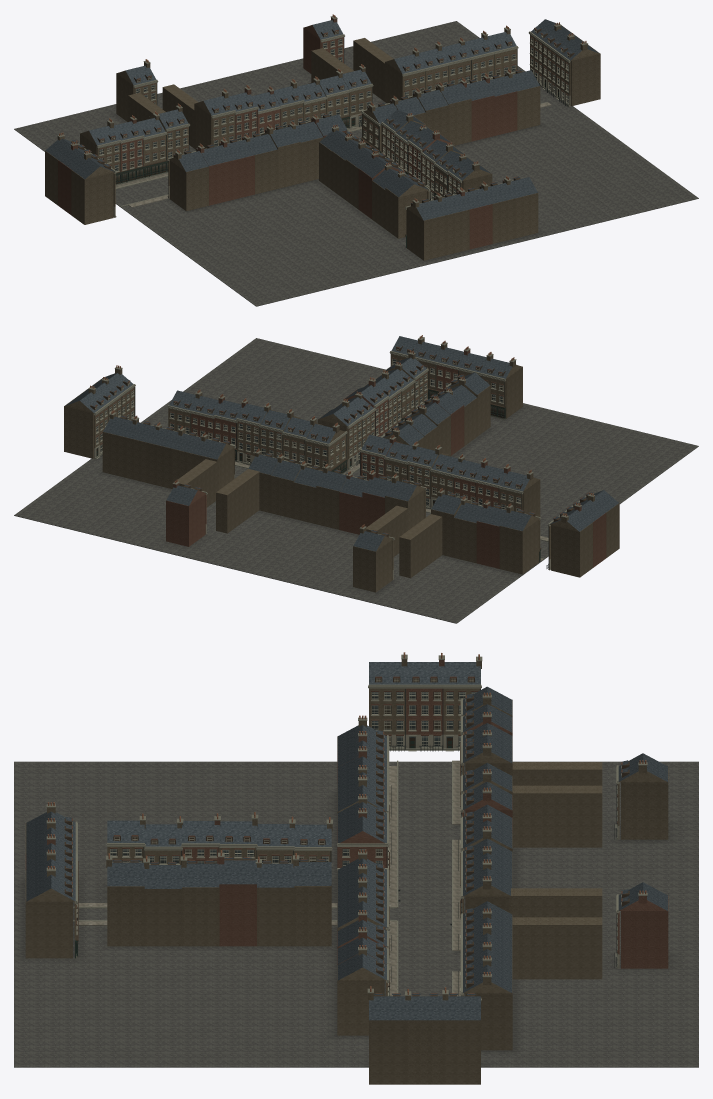
File: broad-street.glb
3 views of the same model, one above another, from view 1: azimuth 30°, elevation 25°; view 2: azimuth 150°, elevation 25°; view 3: azimuth 270°, elevation 25° (orthographic). The views are drawn at different scales.
Parts seen in each view (by area): view 1: Granite setts, London stock brick, Welsh slate, Weathered red brick, Window frame, Limestone, Window glass, Old timber, Ironwork, Warm glass, Terracotta, Painted shopfront; view 2: Granite setts, London stock brick, Welsh slate, Weathered red brick, Window frame, Limestone, Window glass, Old timber, Ironwork, Warm glass, Terracotta; view 3: Granite setts, London stock brick, Welsh slate, Weathered red brick, Limestone, Old timber, Window frame, Yorkstone paving, Window glass, Terracotta, Ironwork.
Part boxes in pixels (left/top/right/bottom): Granite setts: left=14, top=21, right=698, bottom=306; London stock brick: left=45, top=26, right=600, bottom=260; Welsh slate: left=45, top=19, right=599, bottom=220; Weathered red brick: left=58, top=17, right=569, bottom=249; Window frame: left=99, top=29, right=569, bottom=199; Limestone: left=57, top=16, right=587, bottom=247; Window glass: left=99, top=39, right=568, bottom=199; Old timber: left=71, top=28, right=574, bottom=235; Ironwork: left=120, top=37, right=568, bottom=200; Warm glass: left=107, top=39, right=568, bottom=188; Terracotta: left=59, top=14, right=586, bottom=201; Painted shopfront: left=115, top=82, right=559, bottom=247; Granite setts: left=14, top=338, right=698, bottom=623; London stock brick: left=64, top=338, right=619, bottom=592; Welsh slate: left=65, top=336, right=618, bottom=551; Weathered red brick: left=94, top=346, right=606, bottom=568; Window frame: left=95, top=347, right=520, bottom=511; Limestone: left=88, top=337, right=595, bottom=578; Window glass: left=96, top=359, right=520, bottom=511; Old timber: left=90, top=346, right=592, bottom=548; Ironwork: left=102, top=364, right=548, bottom=568; Warm glass: left=96, top=372, right=504, bottom=506; Terracotta: left=90, top=335, right=593, bottom=528; Granite setts: left=14, top=761, right=698, bottom=1067; London stock brick: left=25, top=659, right=668, bottom=1084; Welsh slate: left=26, top=662, right=667, bottom=1020; Weathered red brick: left=25, top=660, right=668, bottom=993; Limestone: left=46, top=654, right=647, bottom=1001; Old timber: left=64, top=678, right=629, bottom=996; Window frame: left=72, top=678, right=621, bottom=995; Yorkstone paving: left=78, top=760, right=460, bottom=996; Window glass: left=110, top=692, right=475, bottom=866; Terracotta: left=47, top=652, right=646, bottom=994; Ironwork: left=77, top=688, right=617, bottom=996.
Size of the model in its own units: 135 by 15.56 by 110.
Materials: 16 (11 with a texture image).
